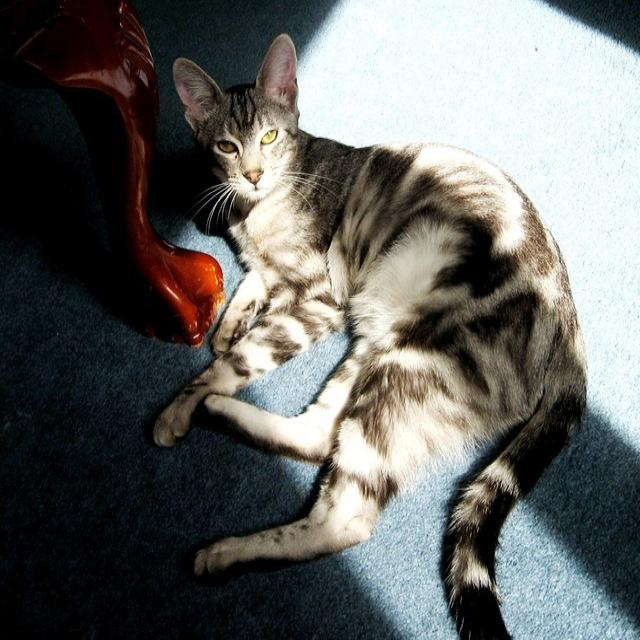cat: (135, 26, 598, 640)
